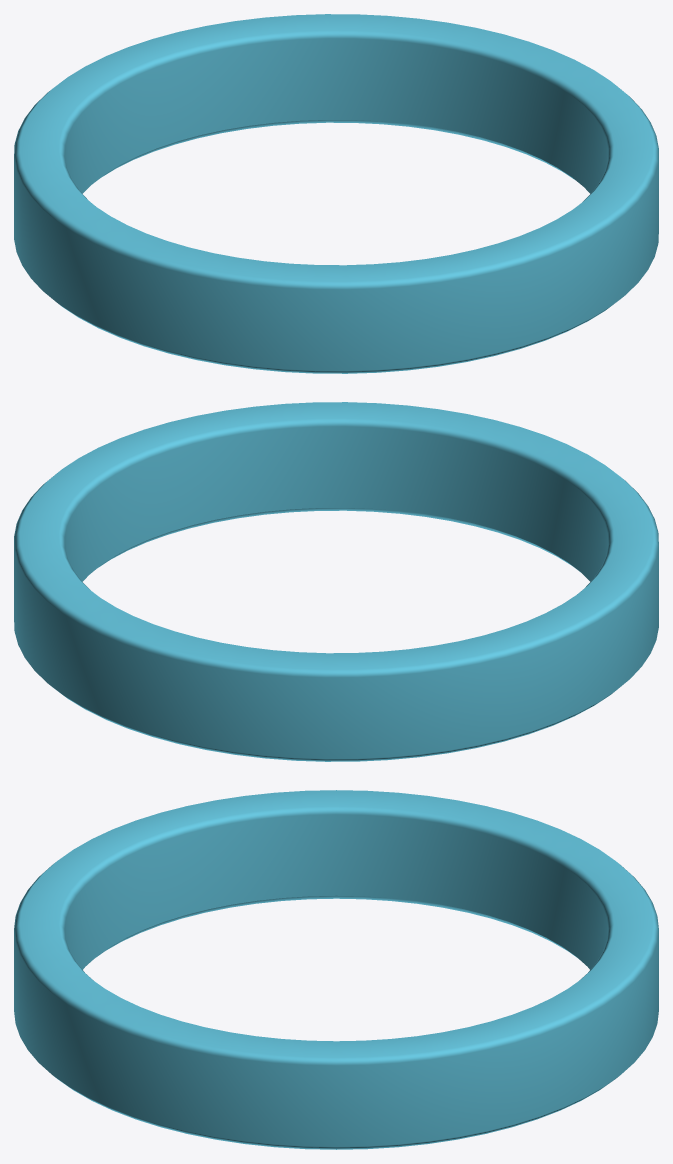
3 views of the same model, one above another, from view 1: azimuth 30°, elevation 25°; view 2: azimuth 150°, elevation 25°; view 3: azimuth 270°, elevation 25° (orthographic).
Parts seen in each view (by area): view 1: seal_body; view 2: seal_body; view 3: seal_body.
Boxes of the visible parts, <box> form: seal_body: <box>14,14,658,373</box>; seal_body: <box>14,402,658,761</box>; seal_body: <box>14,790,658,1149</box>.
Size of the model in its own units: 0.0603 by 0.00952 by 0.0603.
